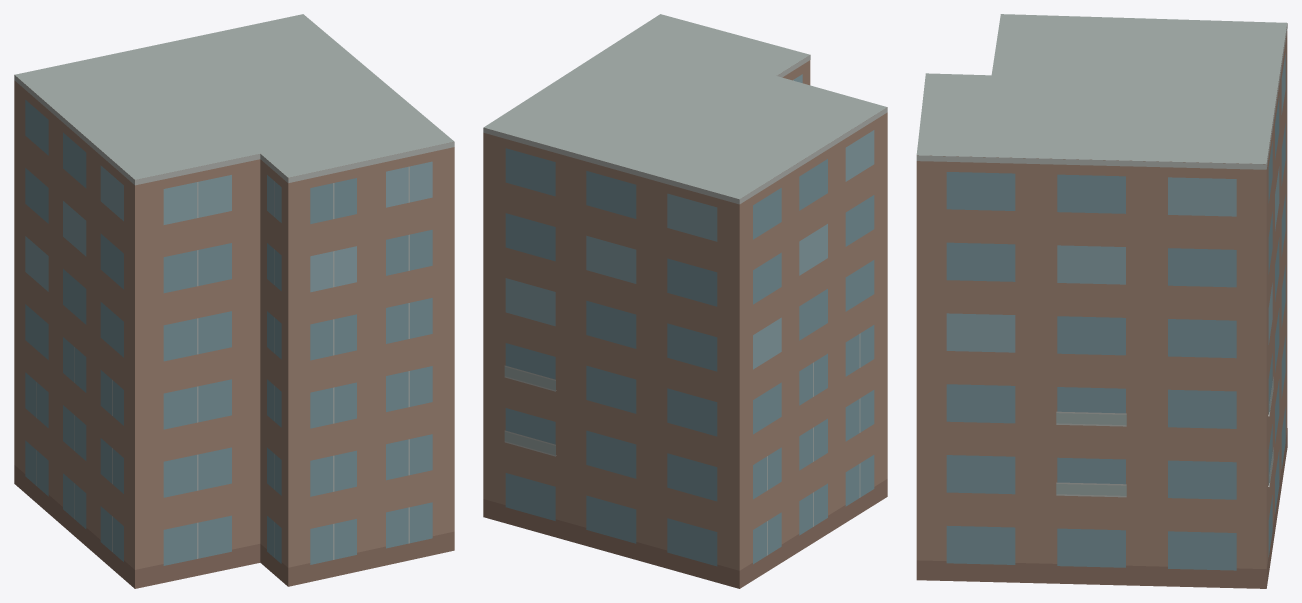
The model's file is survey-upis-32760618.glb.
The picture shows the model from 3 angles, left to right: view 1: azimuth 30°, elevation 25°; view 2: azimuth 150°, elevation 25°; view 3: azimuth 270°, elevation 25°; orthographic projection. The views are drawn at different scales.
Parts seen in each view (by area): view 1: survey-upis-32760618.tmp; view 2: survey-upis-32760618.tmp; view 3: survey-upis-32760618.tmp.
Part boxes in pixels (x1,y1,x2,y2): survey-upis-32760618.tmp: [14, 14, 454, 588]; survey-upis-32760618.tmp: [483, 14, 887, 588]; survey-upis-32760618.tmp: [916, 14, 1287, 588].
Size of the model in its own units: 13.88 by 18.3 by 14.49.
